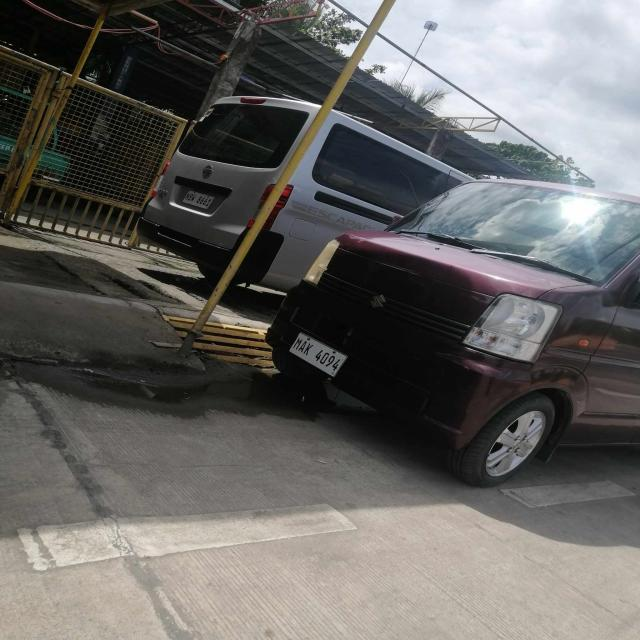license-plate: (289, 332, 348, 377)
